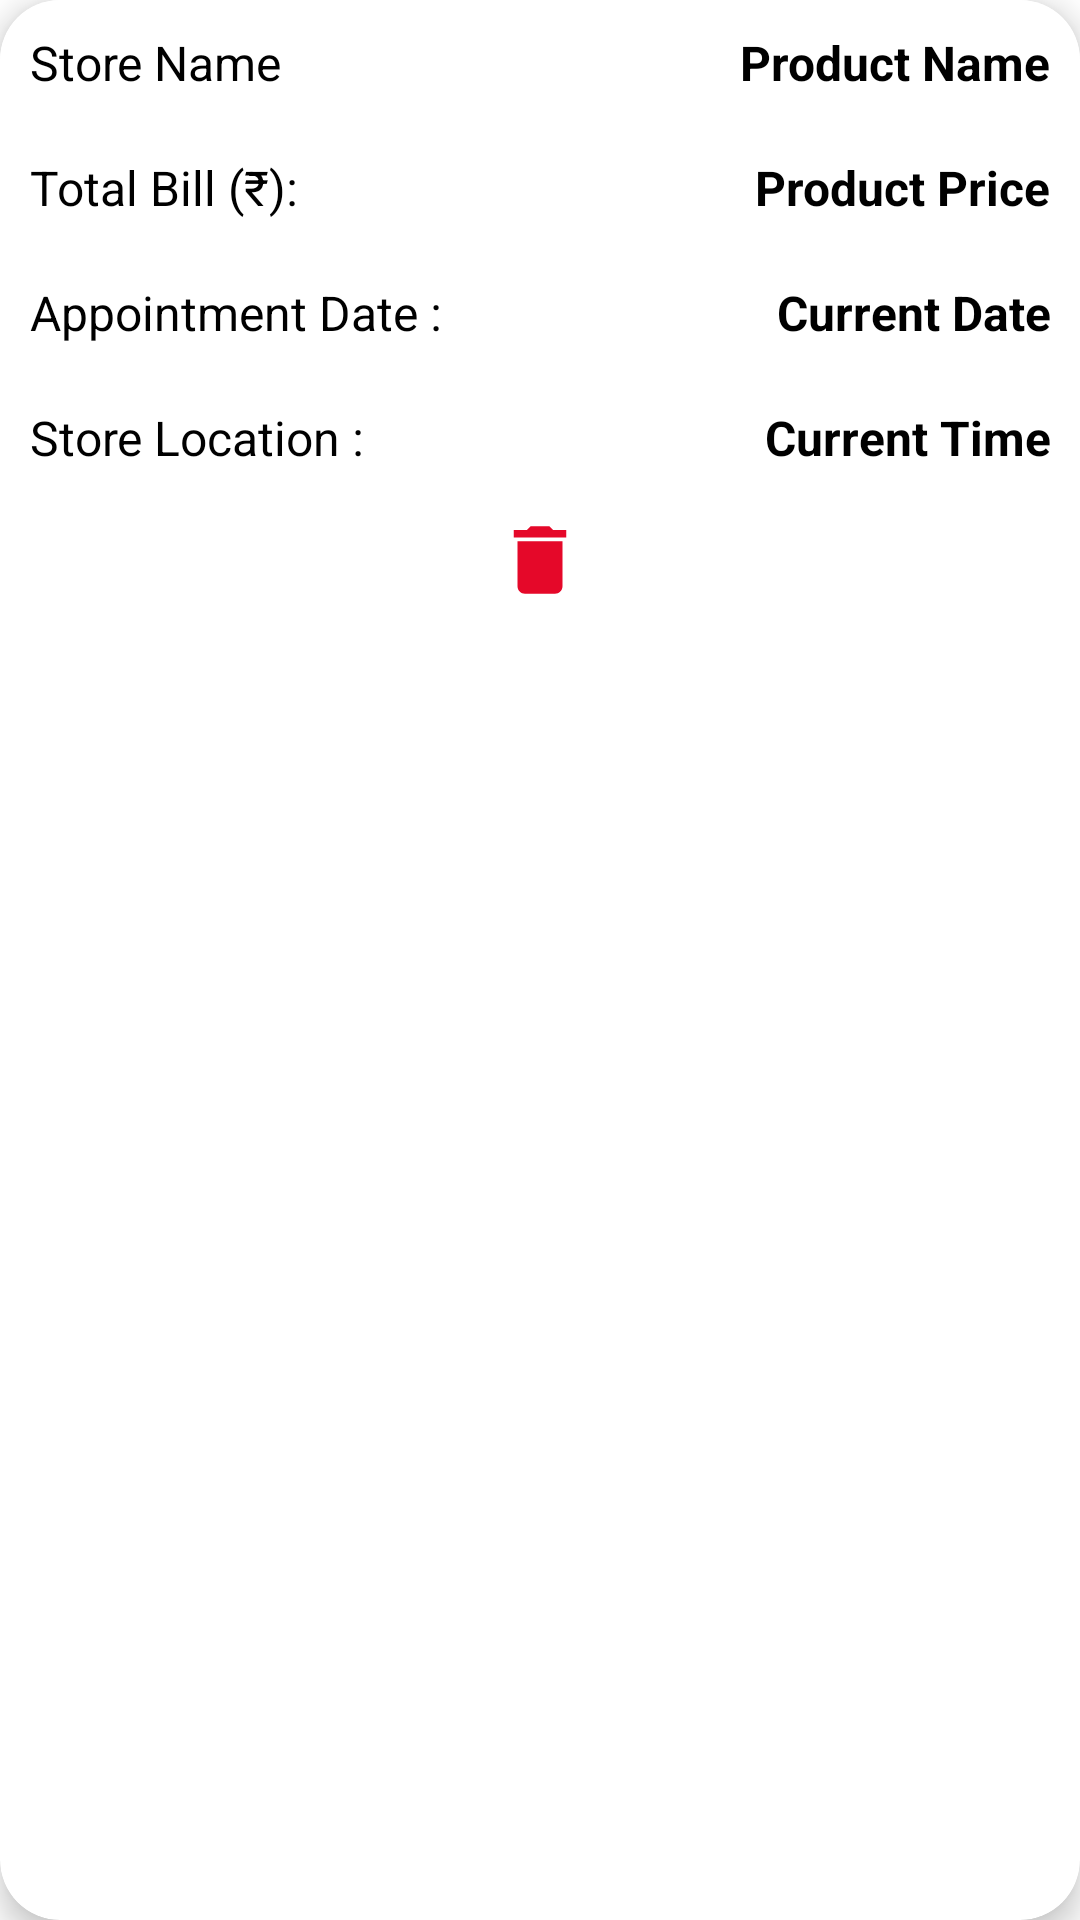

Screen size 1080px x 1920px. Icon name, then its center in pixels as [x,y]:
delete: [540,560]
